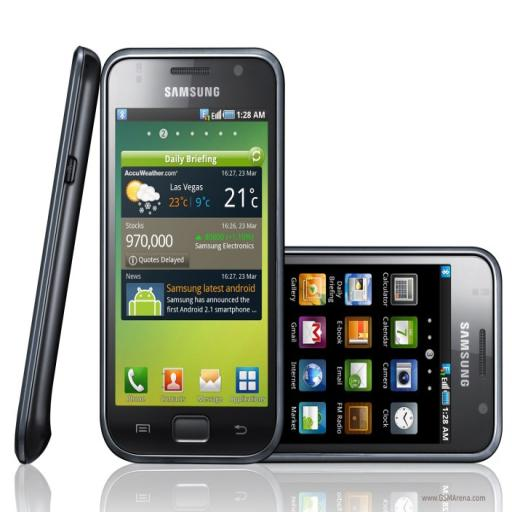phone: (101, 47, 291, 468)
